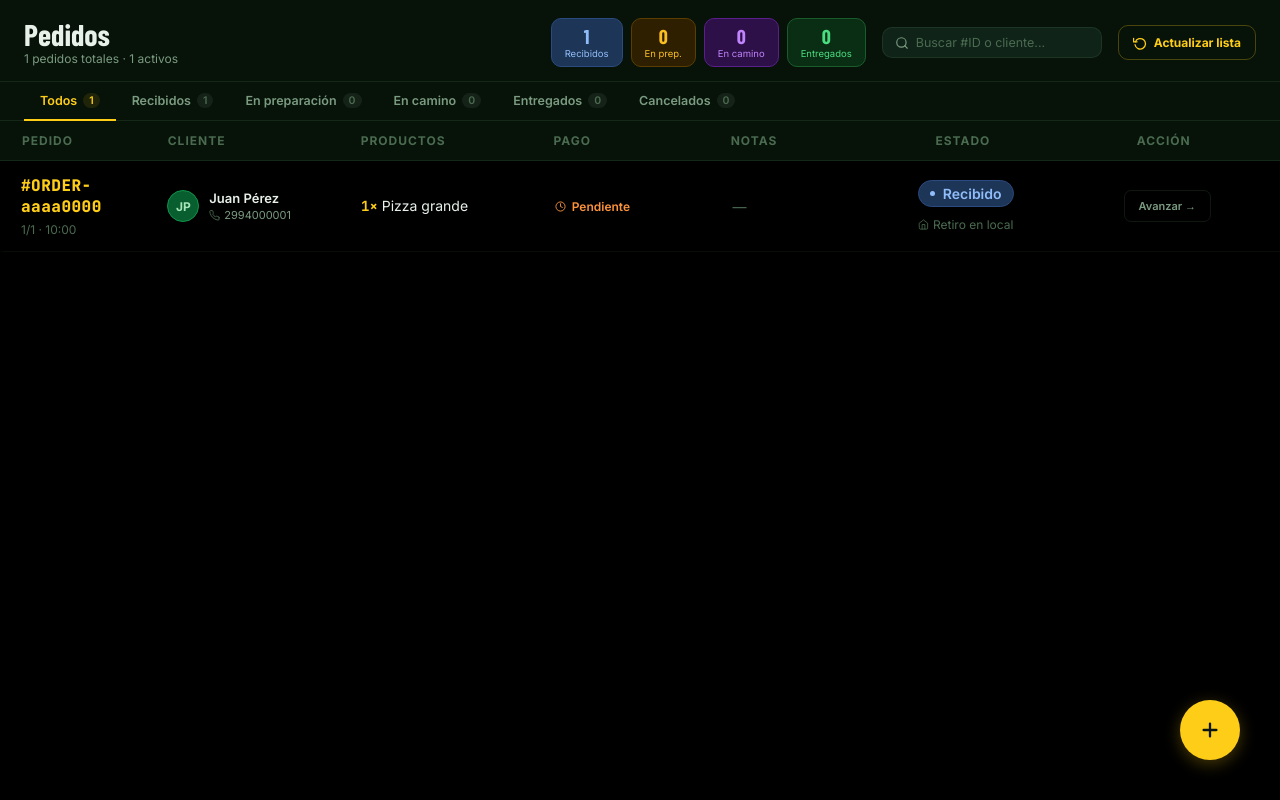
it: panel de detalle › se cierra al clickear el botón X
Click the element with class "orders-row".
click(640, 206)  # box [0,161,1279,252]
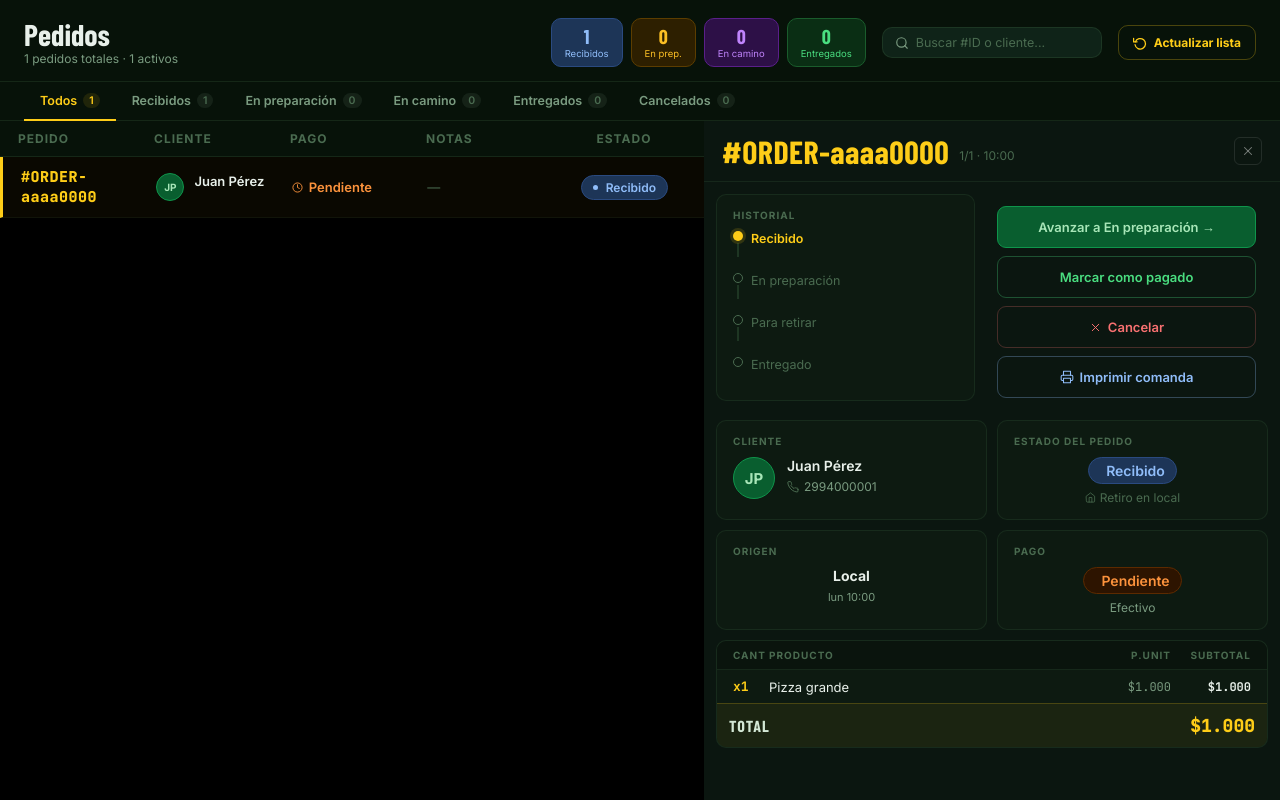
Result: the text "ESTADO DEL PEDIDO" is shown at [1014,435,1133,447]
Click the button named "Cerrar".
click(1248, 151)  # box [1234,137,1262,165]
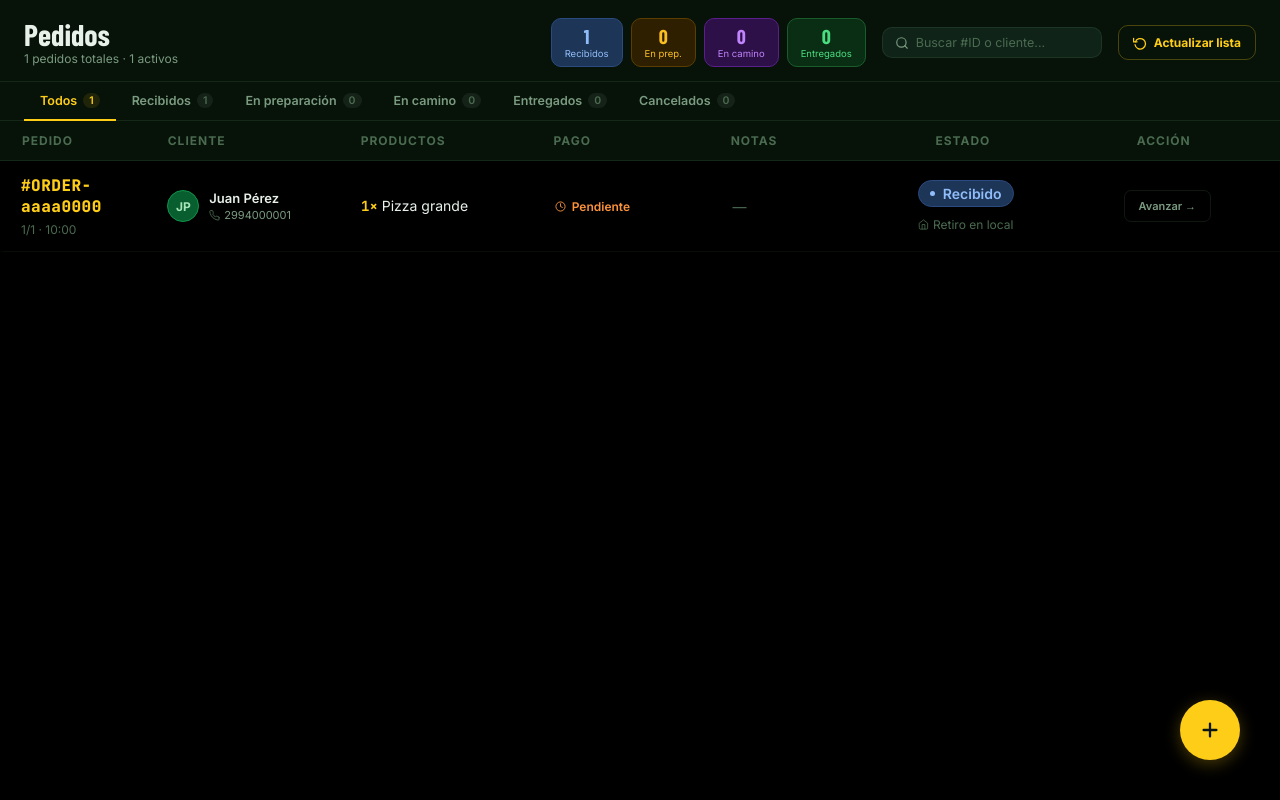
Result: the text "ESTADO DEL PEDIDO" is gone
